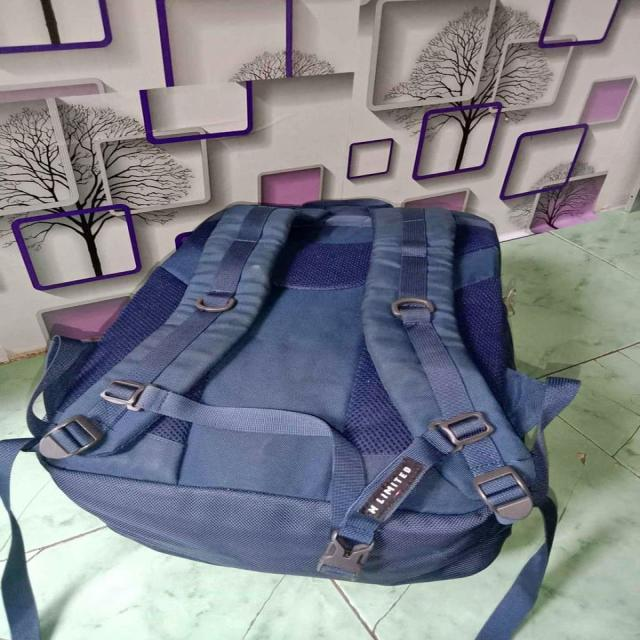bag: (35, 197, 513, 587)
